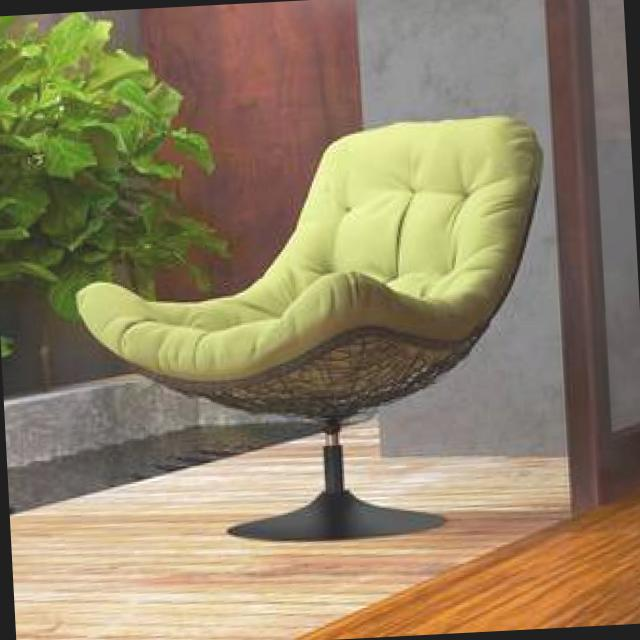obstacle: (19, 32, 598, 550)
